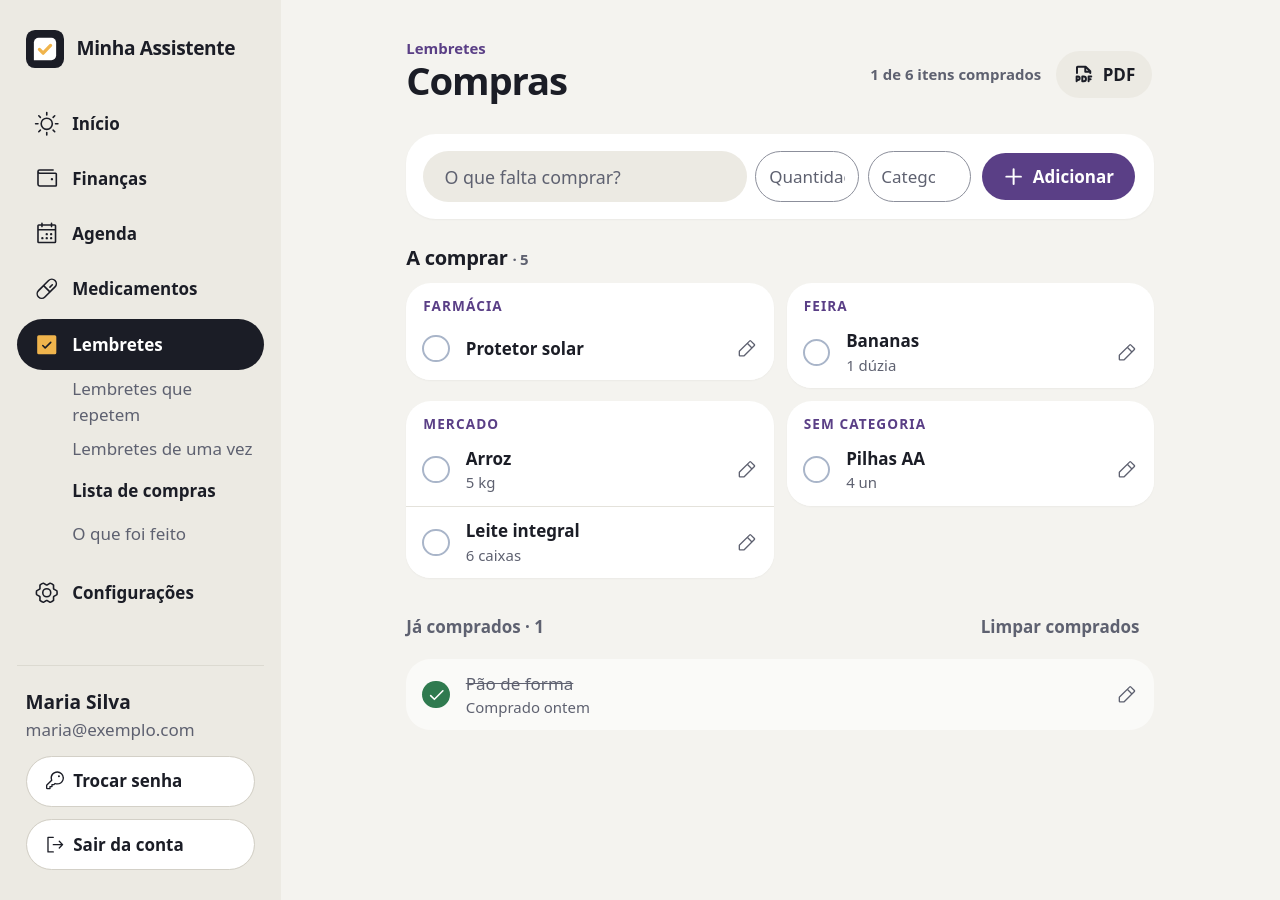
Scenario: marcar › erro do servidor desfaz a marcação
Step 1. Click the checkbox named "Bananas" → (816, 352), box [791,327,842,378]
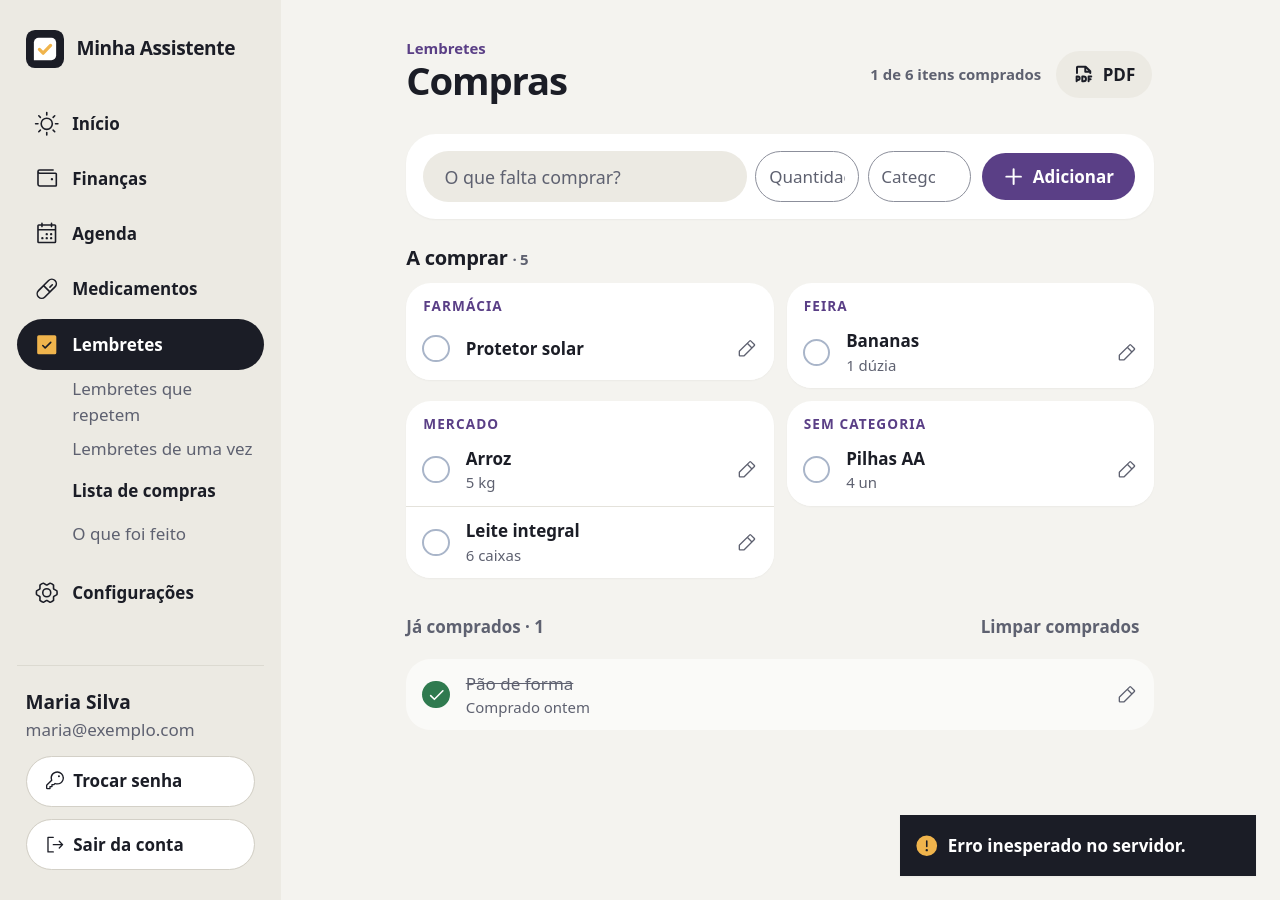
expect the text "1 de 6 itens comprados" is shown: met, box [870,64,1041,85]
expect the text "Erro inesperado no servidor." is shown: met, box [948,832,1186,858]
